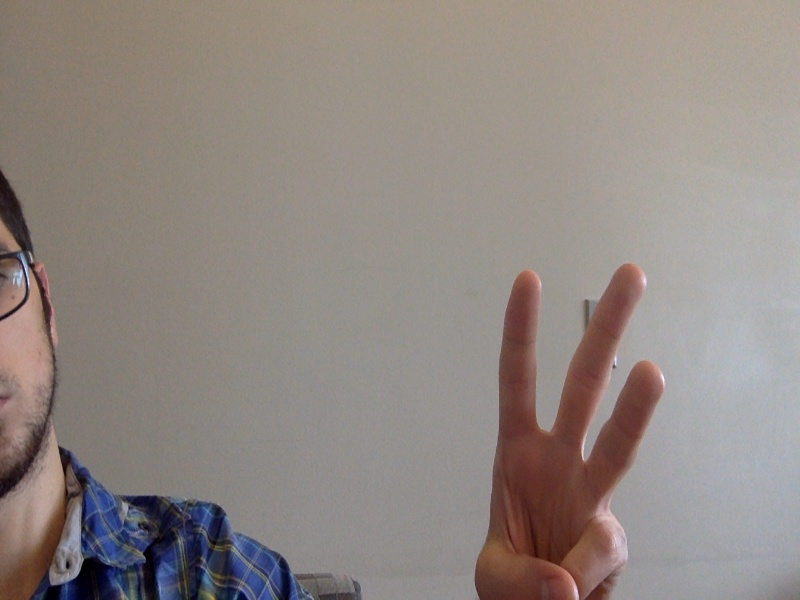3-hand: (477, 264, 664, 600)
